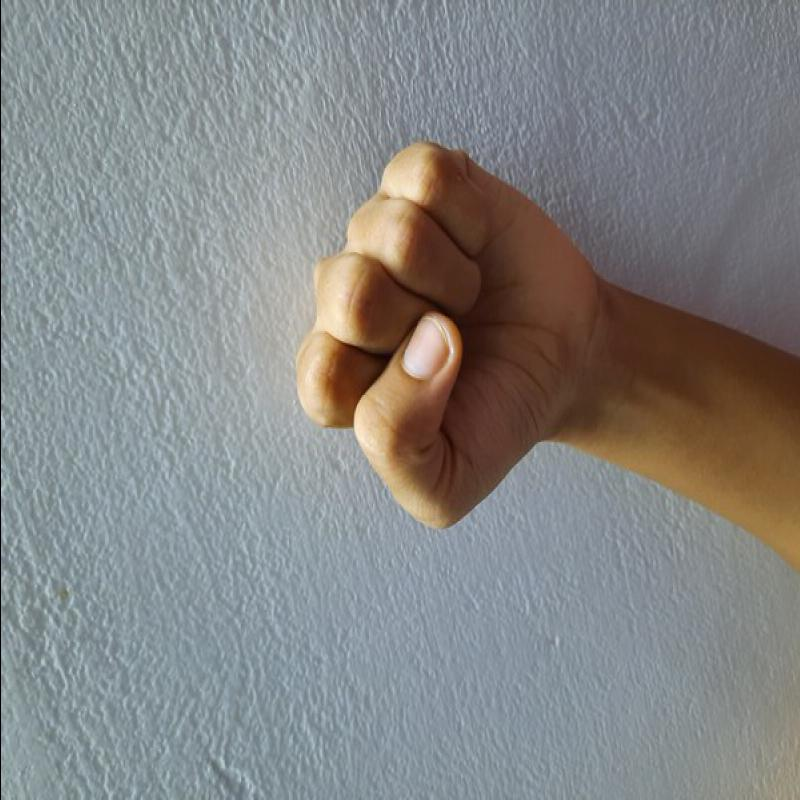Mushti: (285, 135, 638, 543)
